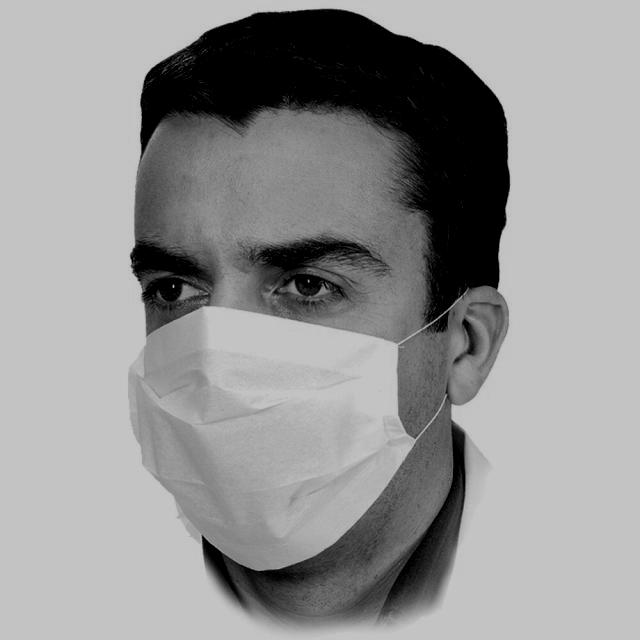fake: (124, 310, 413, 612)
real: (125, 111, 437, 584)
